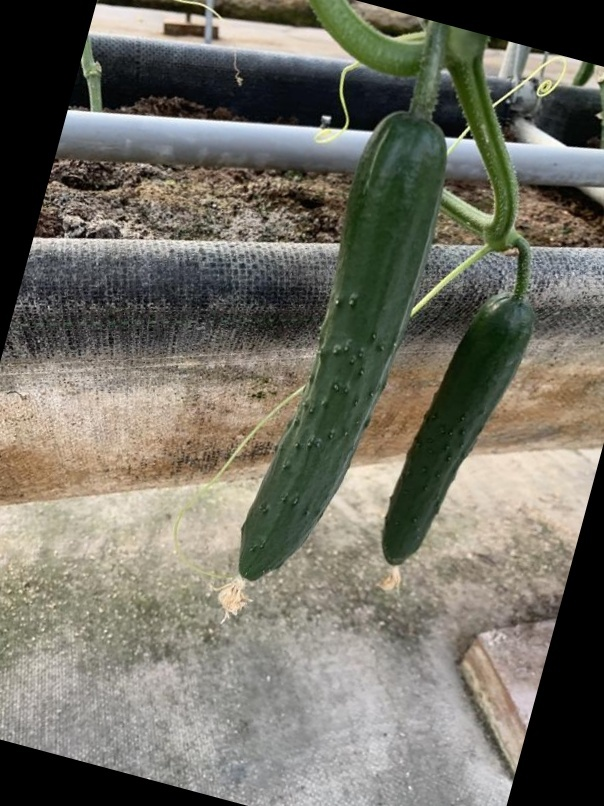mature: (249, 104, 446, 593), (382, 296, 535, 568)
